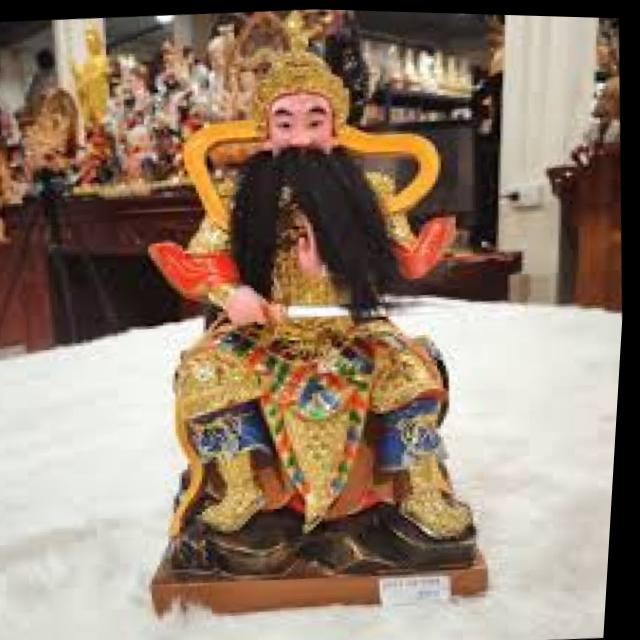Xuan wu: (151, 33, 471, 518)
